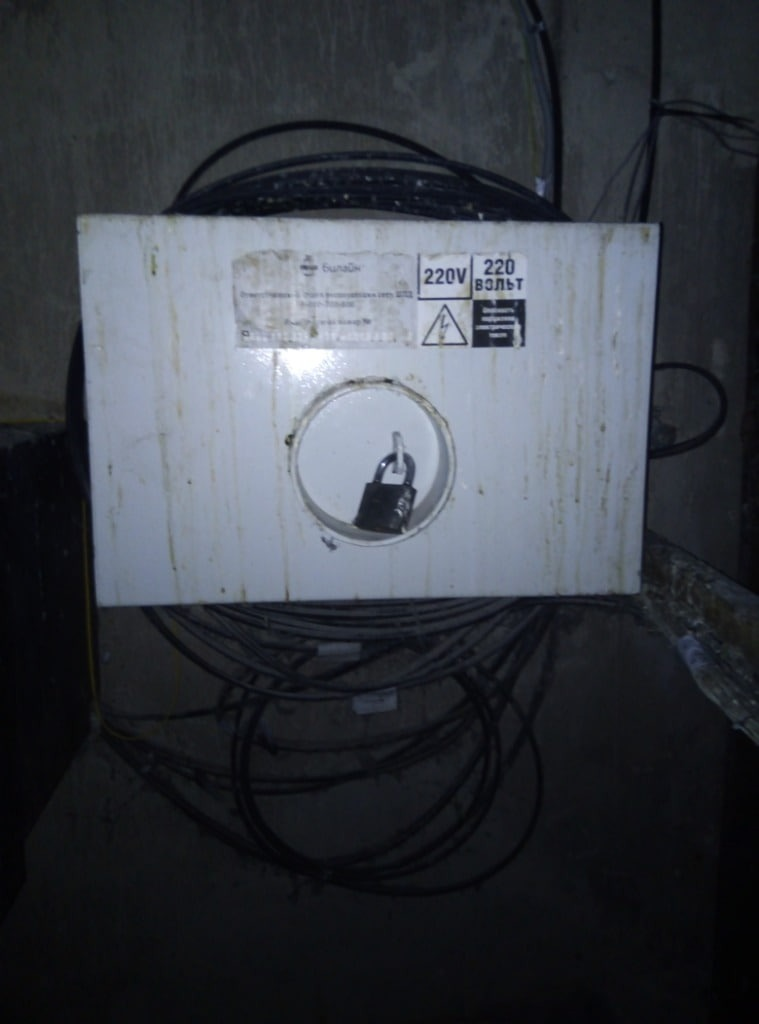shta-3: (67, 211, 661, 607)
